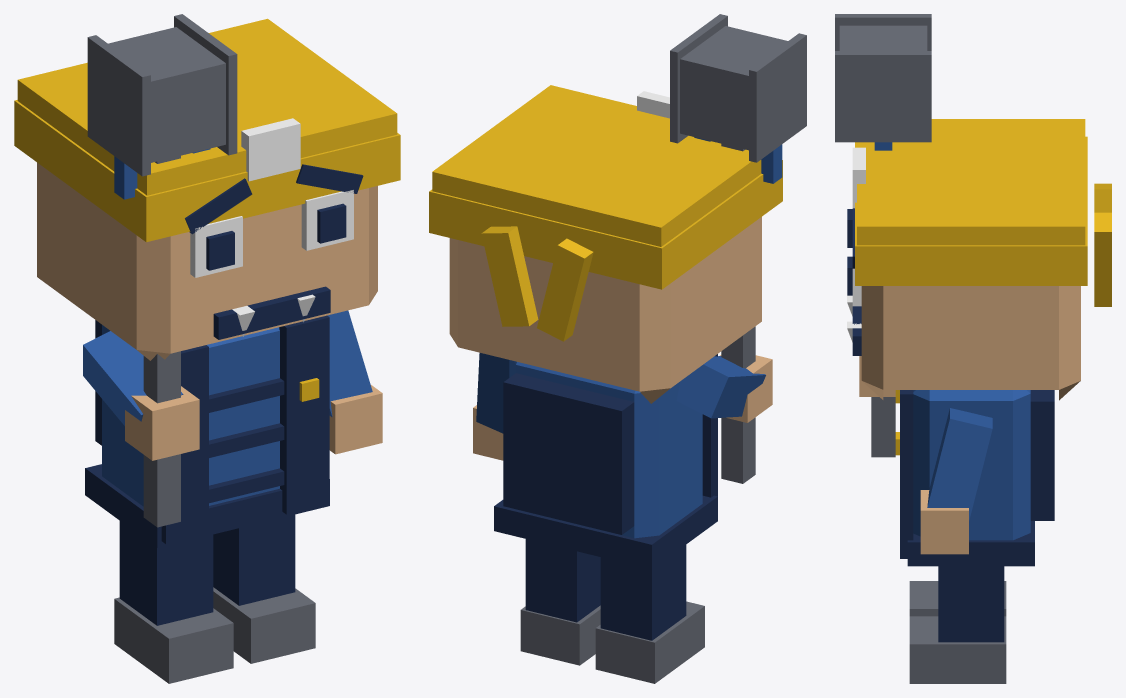
Rendered from weakener_r13.glb.
3 views of the same model, side by side, from view 1: azimuth 30°, elevation 25°; view 2: azimuth 150°, elevation 25°; view 3: azimuth 270°, elevation 25° (orthographic). The views are drawn at different scales.
Parts seen in each view (by area): view 1: weakener_r13_mesh; view 2: weakener_r13_mesh; view 3: weakener_r13_mesh.
Part boxes in pixels (x1,y1,x2,y2): weakener_r13_mesh: [14, 14, 400, 683]; weakener_r13_mesh: [429, 14, 806, 683]; weakener_r13_mesh: [835, 14, 1111, 683].
Size of the model in its own units: 0.7393 by 1.6 by 0.6952.
Materials: 1 (1 with a texture image).
